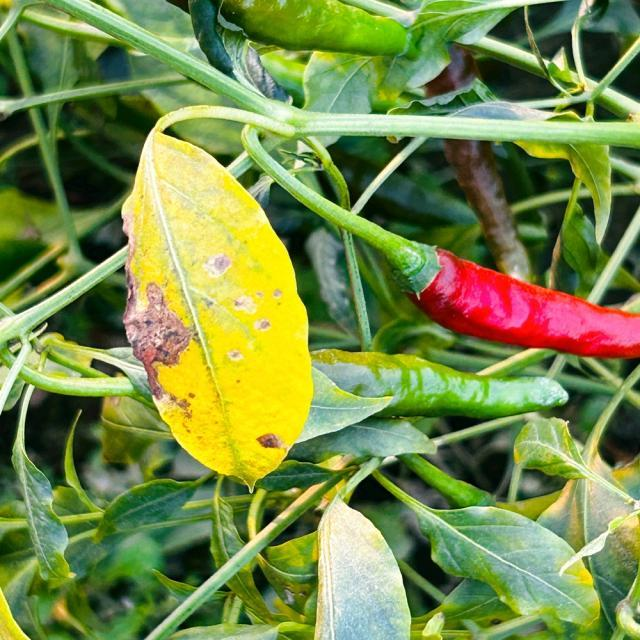Bercak Daun Serkospora: (119, 116, 314, 493)
Buah Cabai Sehat: (398, 238, 640, 368)
